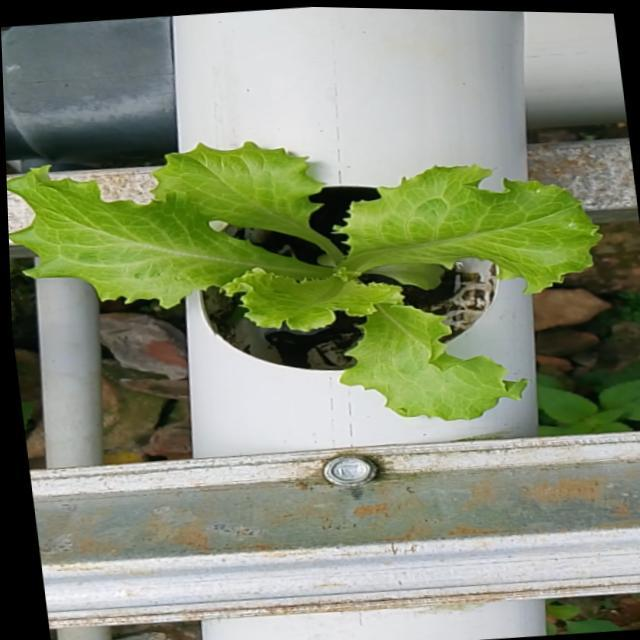Baby: (7, 143, 603, 419)
